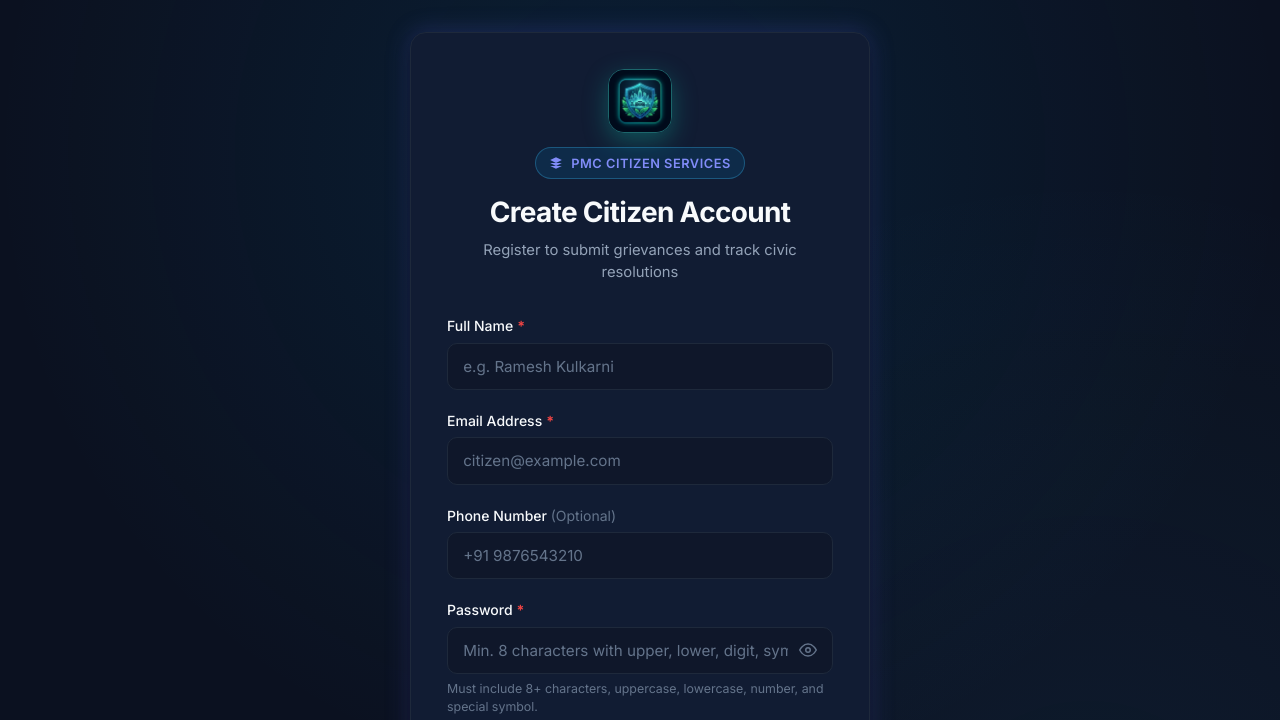
Scenario: RegisterPage Component › validates password complexity (uppercase, lowercase, number, special character, 8+ chars)
This screenshot has width=1280, height=720.
In the field labelled "Full Name*": (640, 366) [447, 343, 833, 390], type "Pradnya Ghodke"
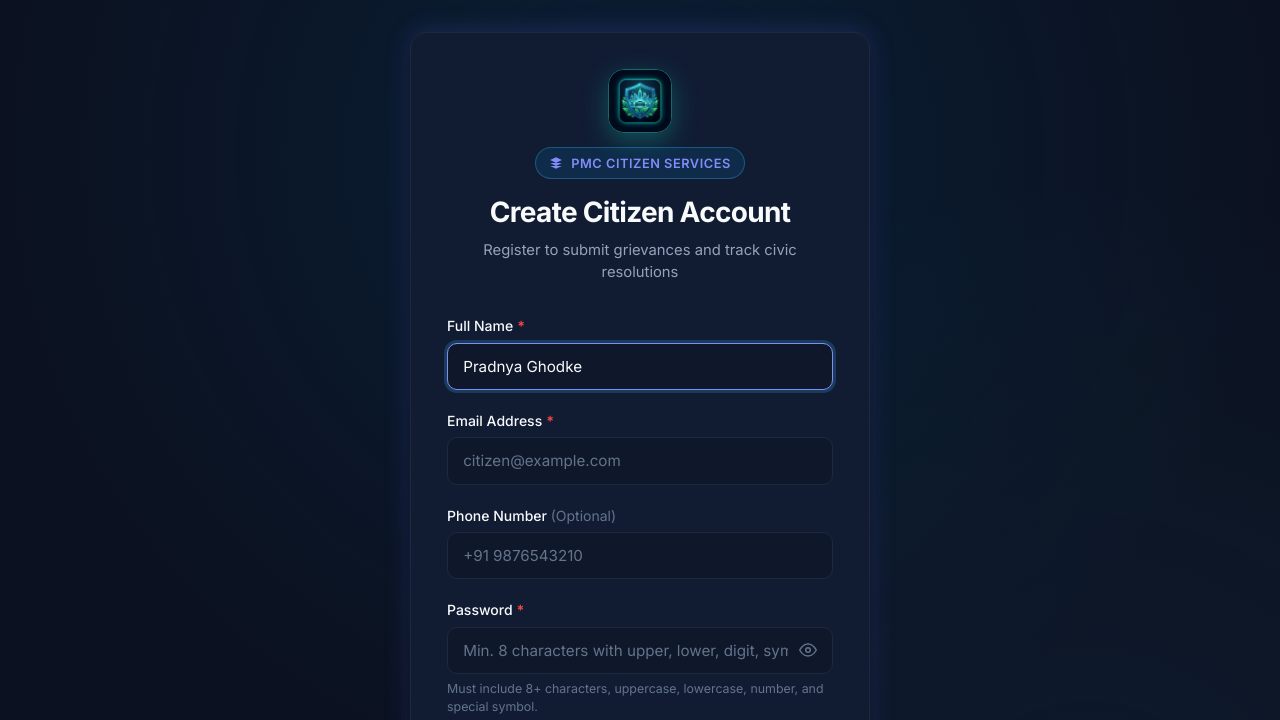
In the field labelled "Email Address*": (640, 461) [447, 437, 833, 485], type "pradnya@example.com"
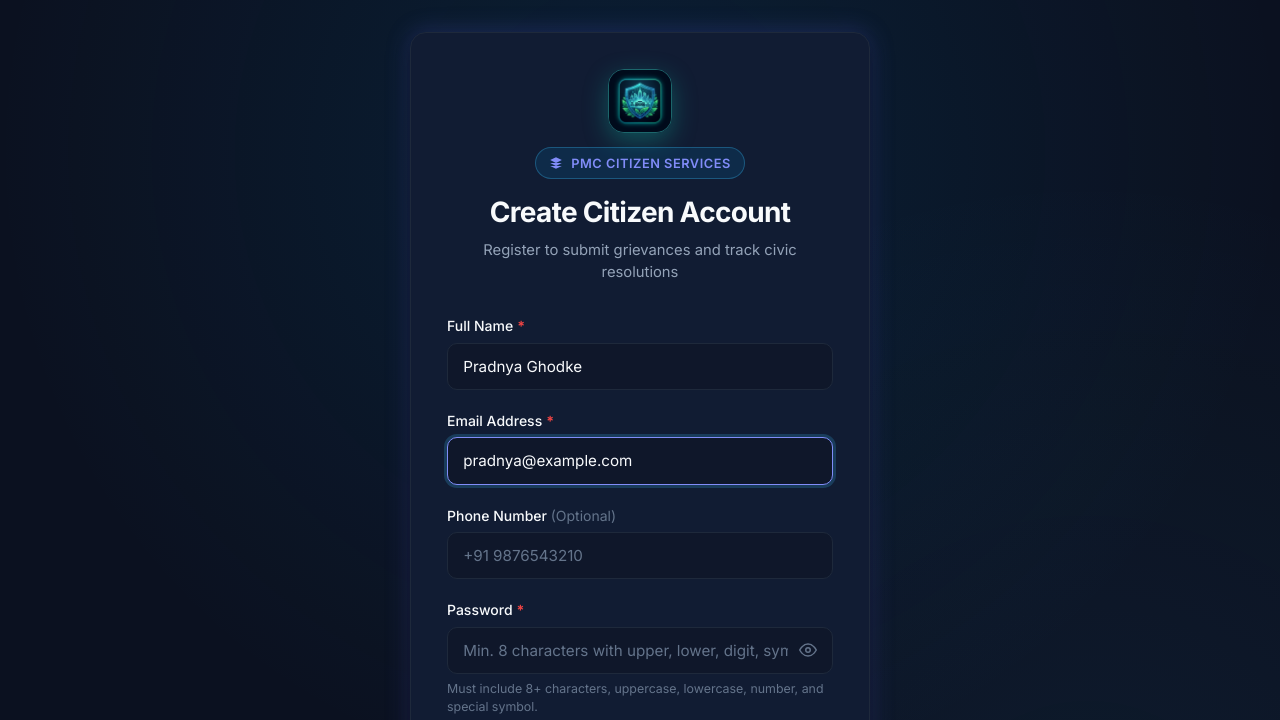
In the password field labelled "Password*": (640, 650) [447, 627, 833, 674], type "simplepassword"
(page scrolled)
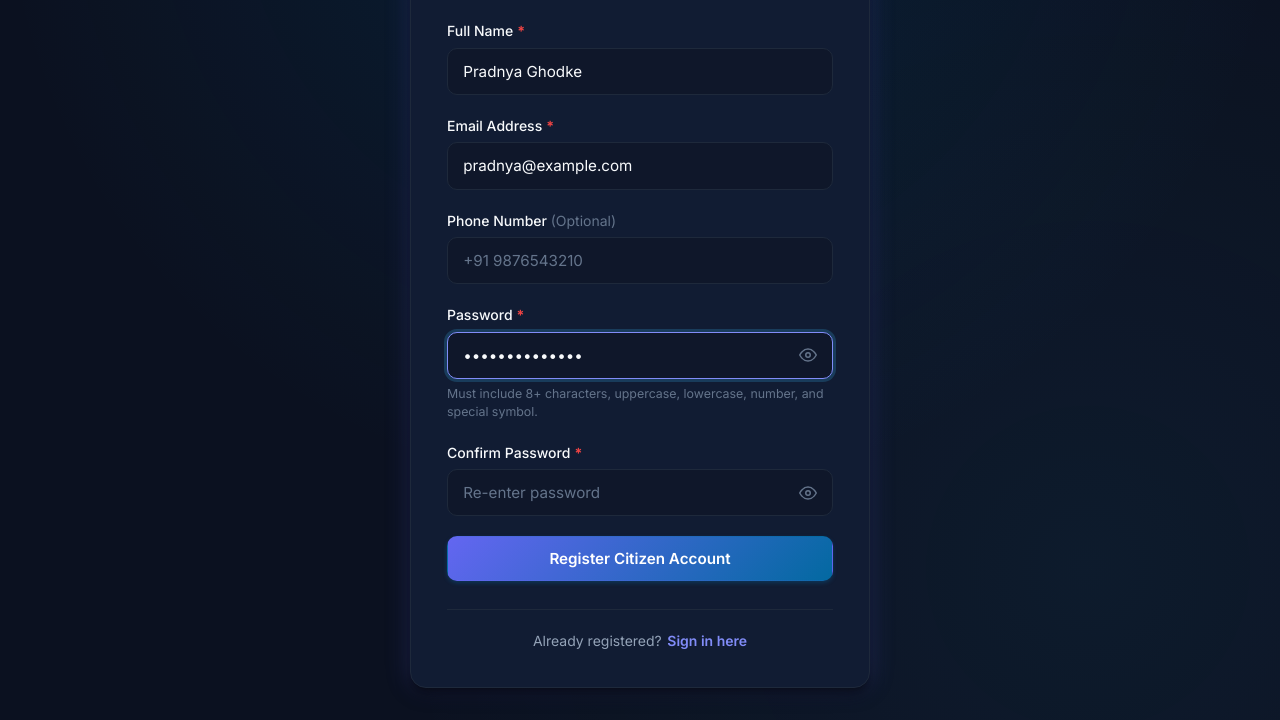
In the password field labelled "Confirm Password*": (640, 493) [447, 469, 833, 516], type "simplepassword"
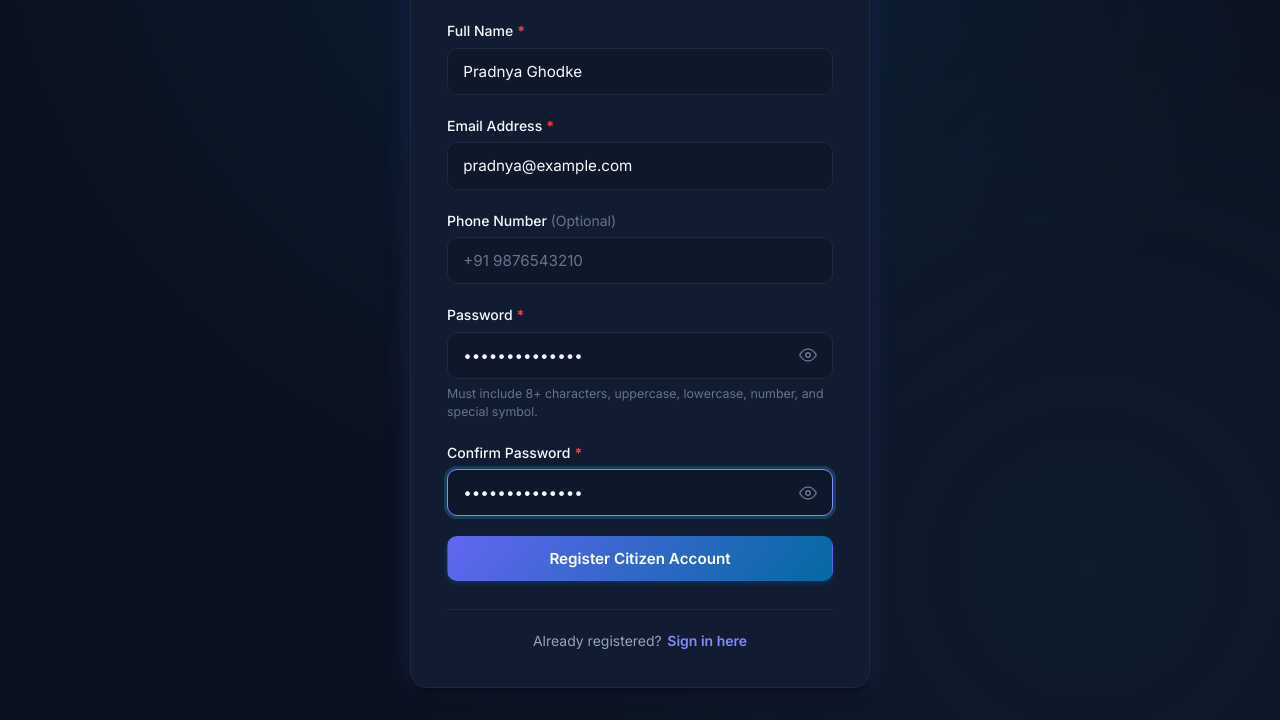
Click the button "Register Citizen Account": click(640, 559) [447, 536, 833, 581]
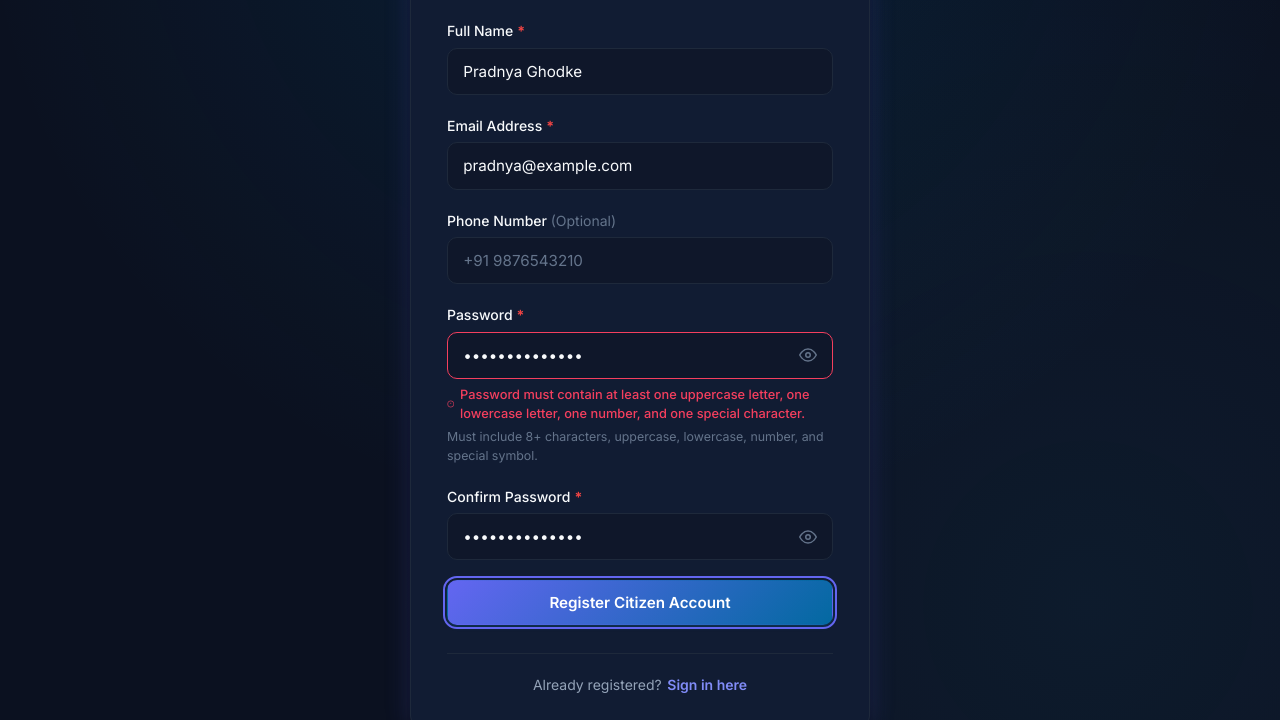
expect the text "Password must contain at least one uppercase letter" is shown: met, box [460, 386, 810, 421]
